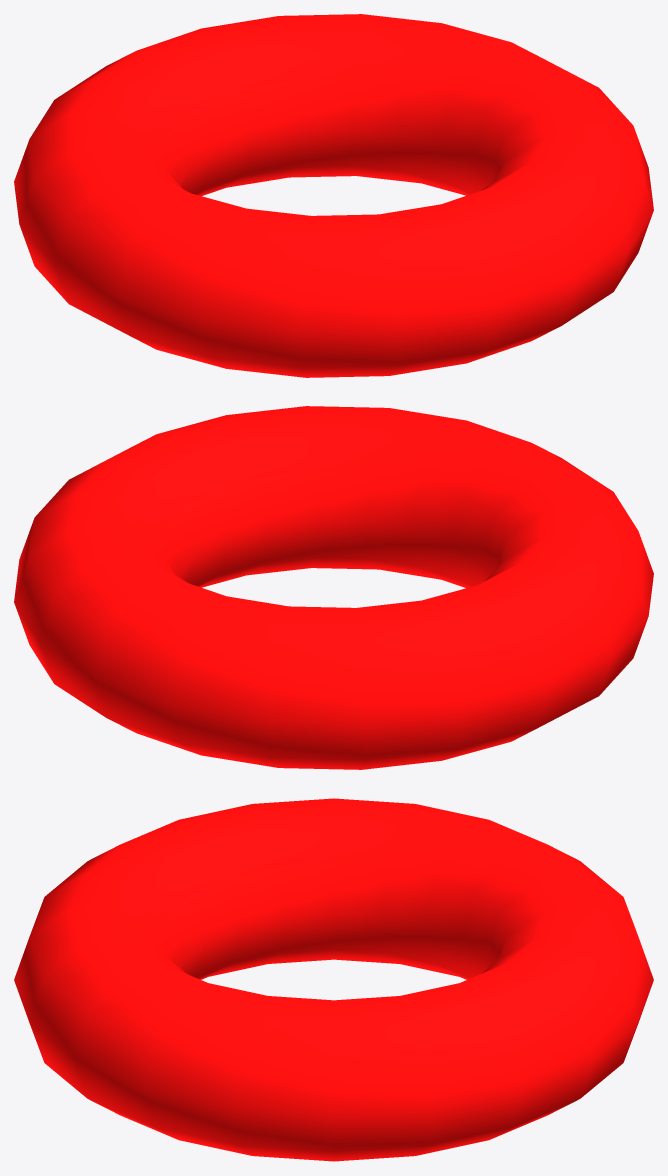
File: BaseToroids.001.glb
3 views of the same model, one above another, from view 1: azimuth 30°, elevation 25°; view 2: azimuth 150°, elevation 25°; view 3: azimuth 270°, elevation 25° (orthographic).
Parts seen in each view (by area): view 1: BaseToroids.001; view 2: BaseToroids.001; view 3: BaseToroids.001.
Part boxes in pixels (x1,y1,x2,y2): BaseToroids.001: (14, 14, 653, 377); BaseToroids.001: (14, 406, 653, 769); BaseToroids.001: (14, 798, 653, 1161).
Bounding box in the file's own units: 0.9438 × 0.2278 × 0.9438.
1 material, 1 textured.
